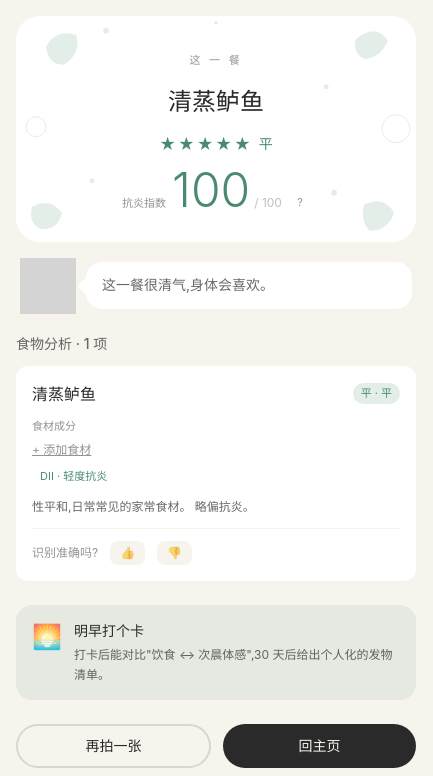
Scenario: U6 MealResult page › 点 👍 调 postMealFeedback(thumbs_up)
Click the button with test id "thumbs-up".
click(128, 553)  # box [110, 541, 145, 565]
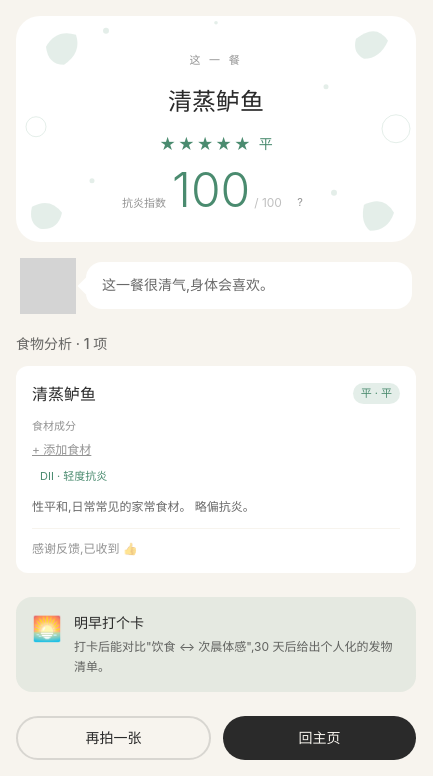
expect the message shows "已收到": met, box [32, 541, 138, 556]
